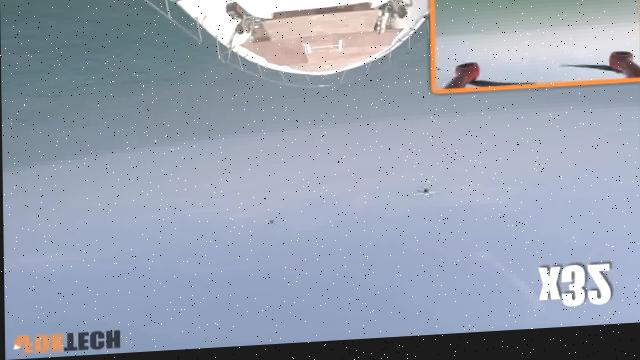drone: (407, 186, 442, 213), (258, 217, 289, 238)
